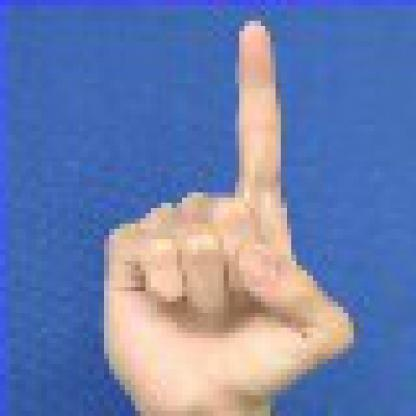one: (94, 15, 364, 410)
